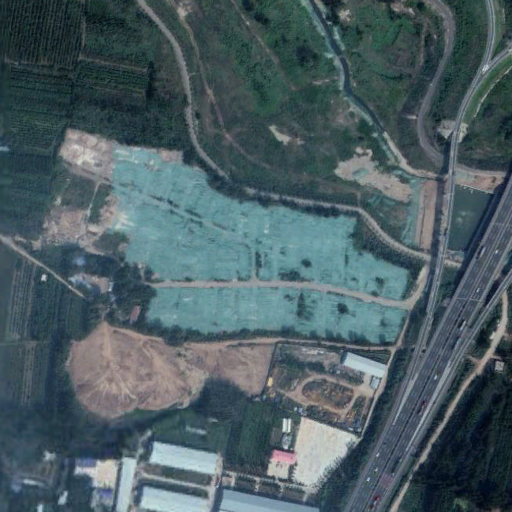cw: (44, 128, 427, 348)
